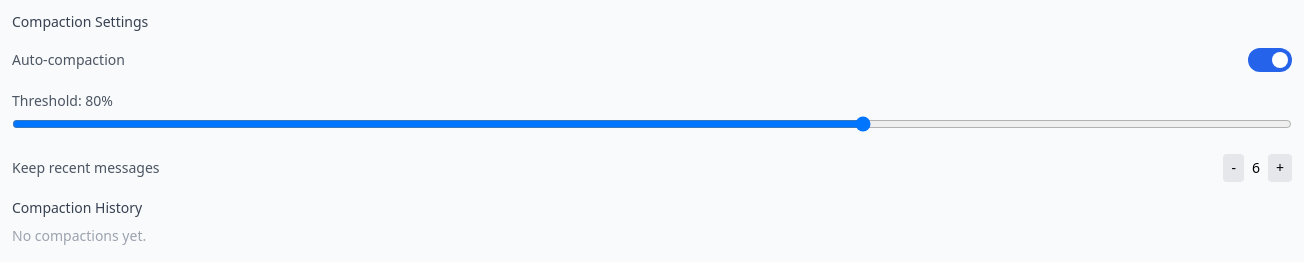
CompactionPanel › clicking - on keep-recent decreases value
Check: the text with test id "keep-recent-value" reads "6", box [1252,158,1260,177]
Click the button with test id "keep-recent-minus".
click(1234, 168)  # box [1224,154,1244,182]
Wait 600 ms
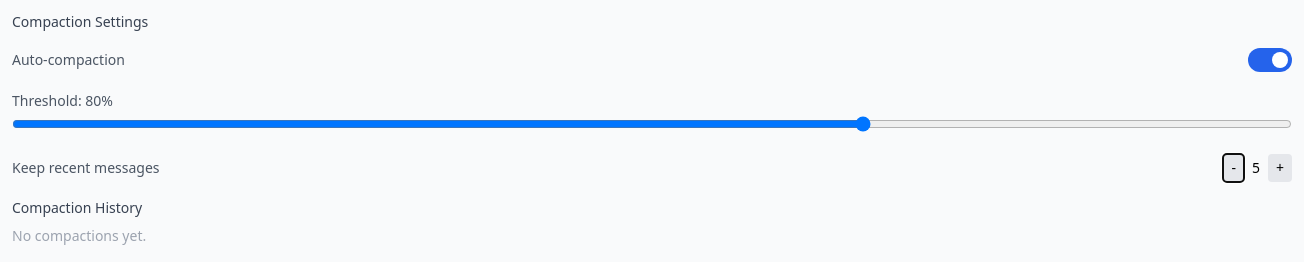
Check: the text with test id "keep-recent-value" reads "5", box [1252,158,1260,177]
